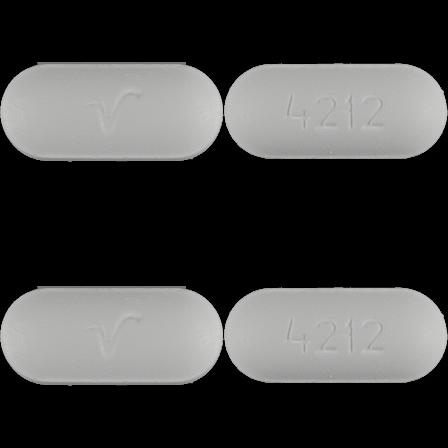50090-0174: (0, 0, 224, 224)
